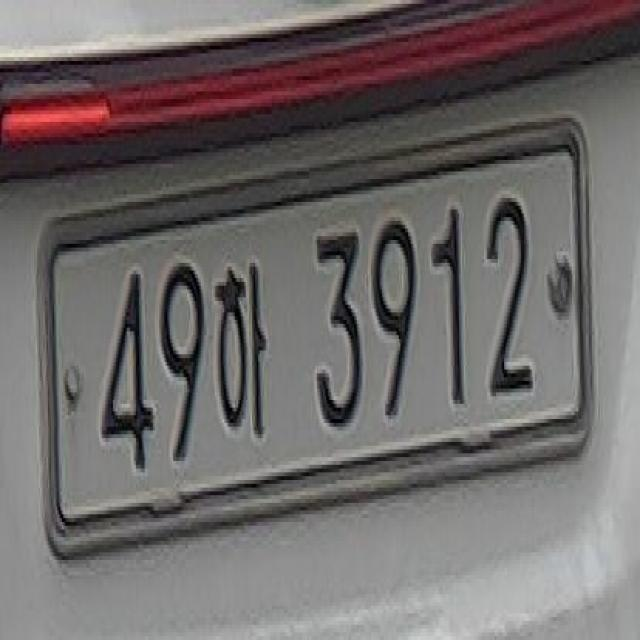1: (431, 195, 468, 402)
2: (483, 201, 544, 408)
3: (316, 218, 364, 438)
4: (92, 262, 156, 475)
9: (371, 210, 418, 428), (159, 248, 204, 472)
ha: (209, 240, 269, 458)
license_plate: (34, 86, 612, 620)
